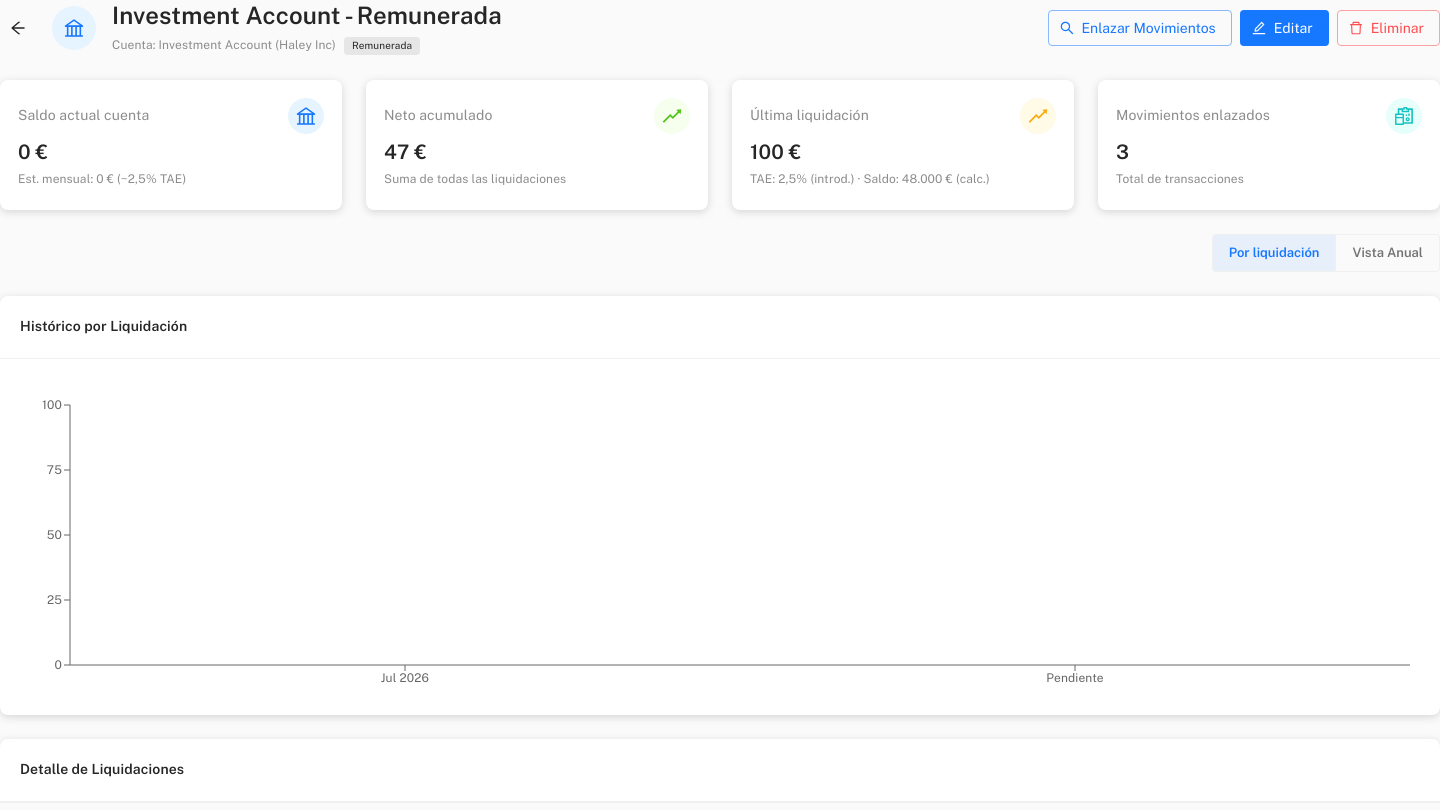
YieldDetail › click delete button opens confirmation modal and confirming removes the yield
Step 1. Click the button "Eliminar" → (1388, 28), box [1337,10,1439,46]
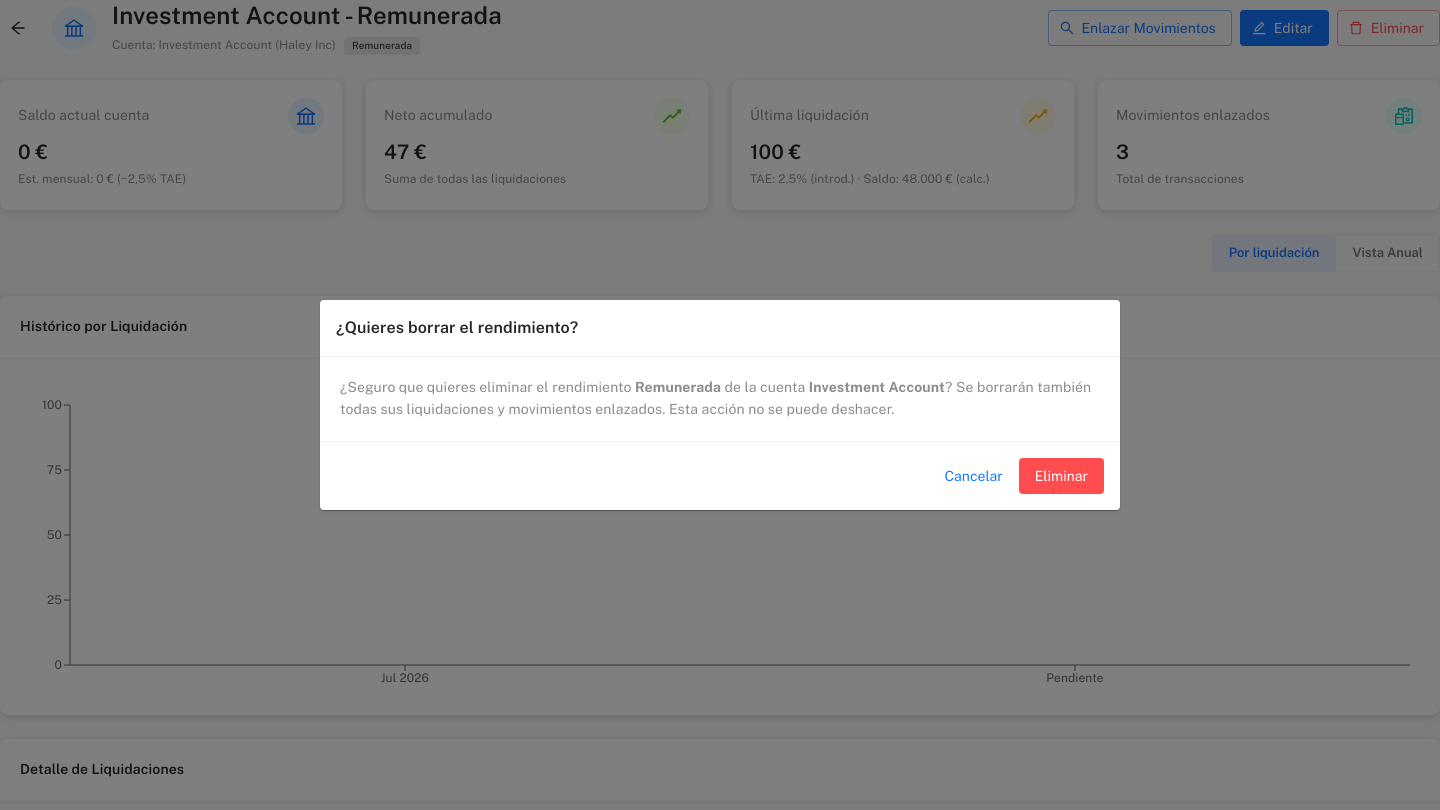
Expected: the text "¿Quieres borrar el rendimiento?" is shown, [336,318,578,337]
Step 2. Click the button "Eliminar" → (1061, 476), box [1019,458,1104,494]
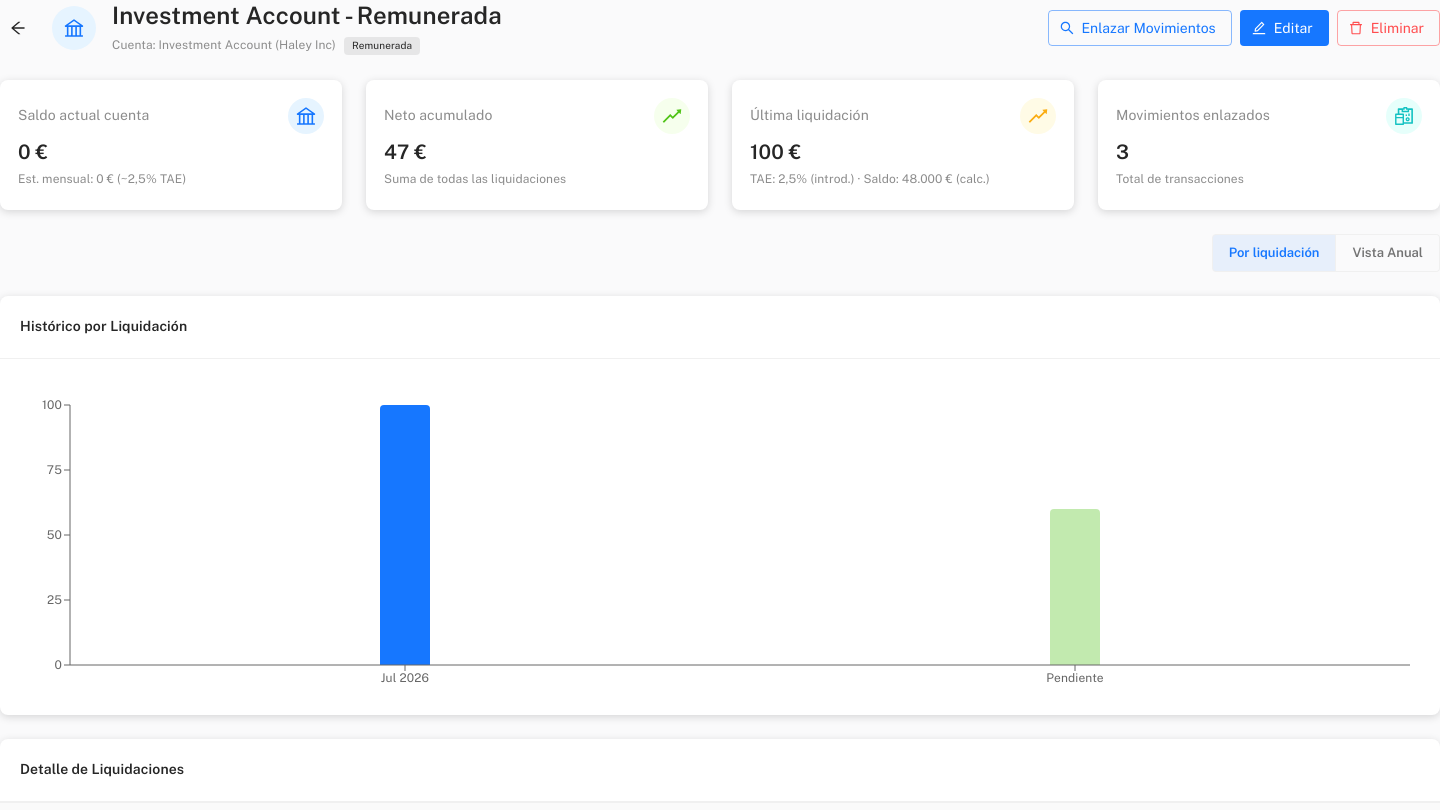
Expected: the text "¿Quieres borrar el rendimiento?" is gone
